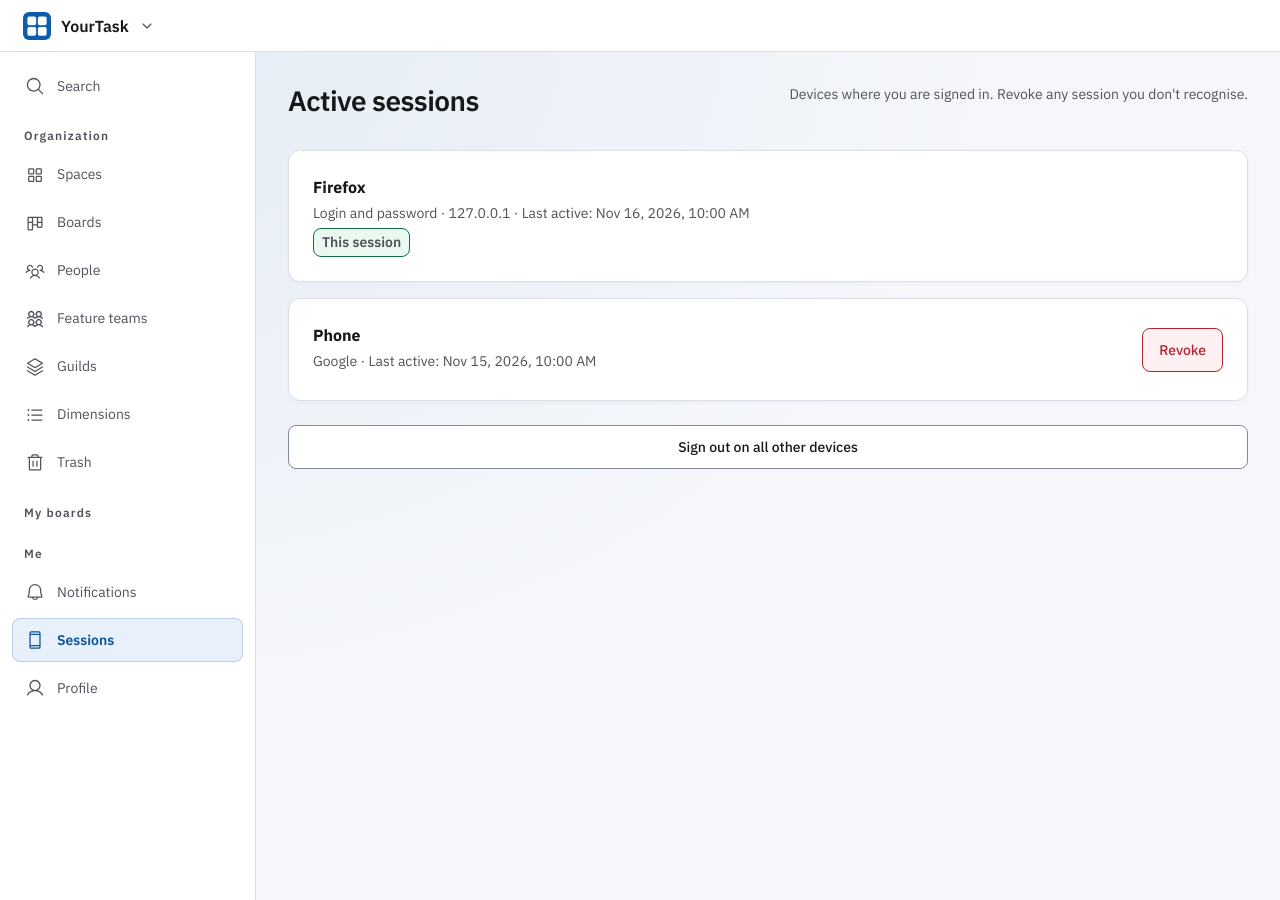
Scenario: workspace › sessions can be revoked from the interface
This screenshot has width=1280, height=900.
Click the button "Revoke": (1183, 350) [1142,328,1223,372]
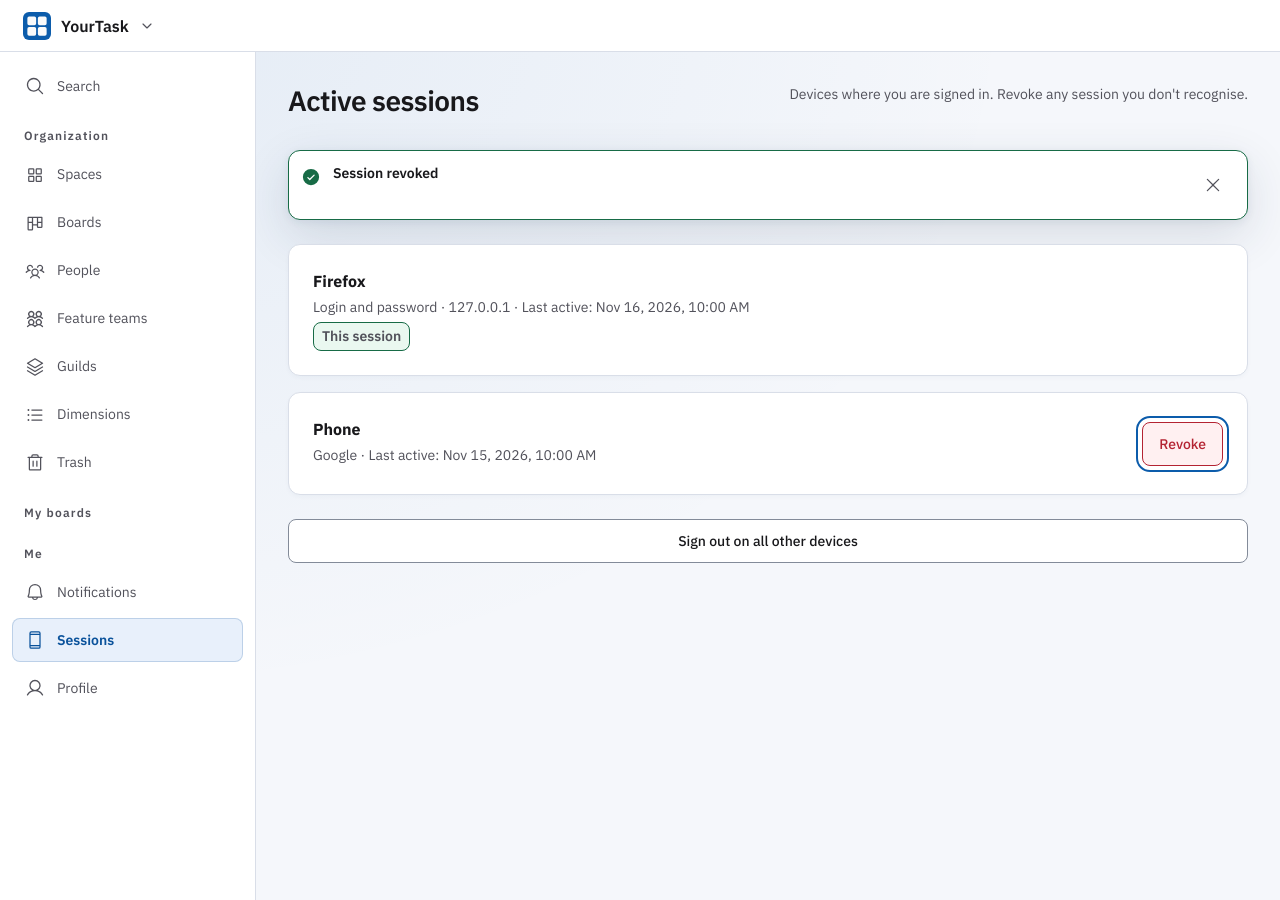
Expected: the text "Session revoked" is shown, [333,164,438,182]
